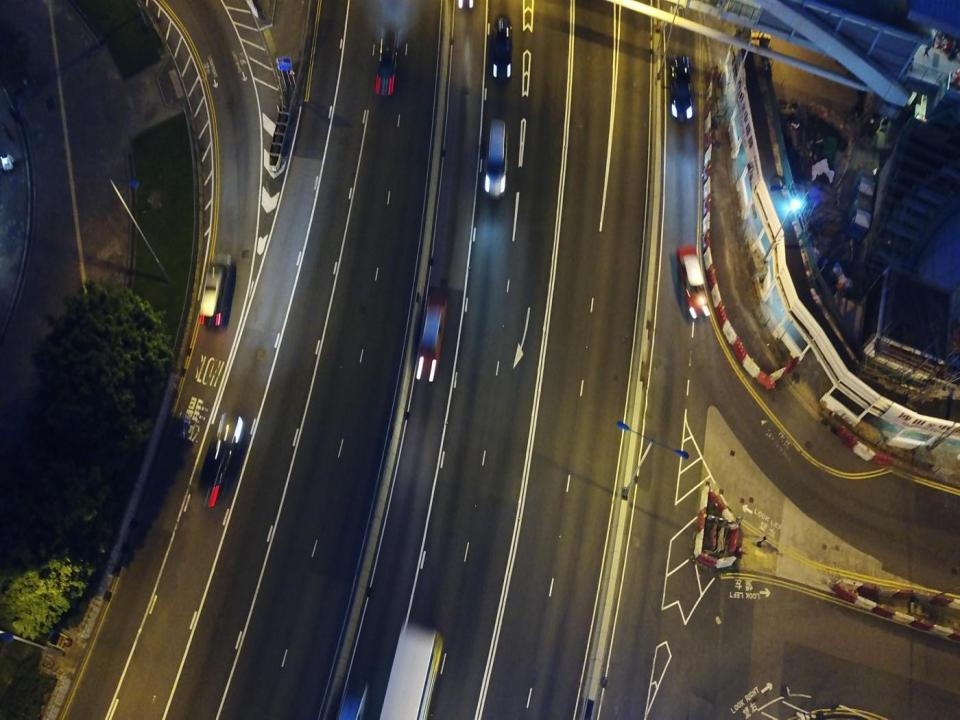bus: (381, 623, 443, 719)
car: (197, 415, 245, 509), (418, 298, 446, 384), (675, 245, 708, 317), (374, 28, 397, 97), (670, 56, 693, 120), (493, 14, 512, 80), (336, 680, 367, 719)
van: (200, 253, 230, 328), (485, 120, 506, 196)
